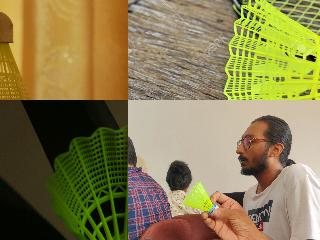shuttlecock: (223, 0, 319, 99), (45, 126, 127, 239), (0, 10, 38, 99), (182, 181, 218, 217)
